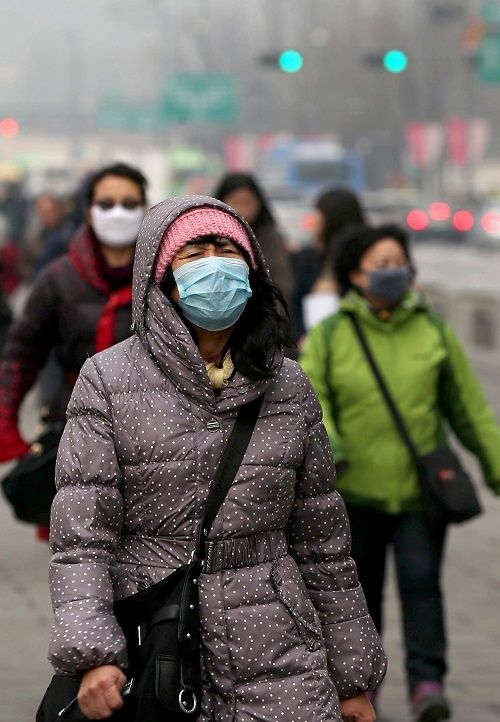mask: (168, 237, 268, 331), (354, 260, 429, 313), (91, 201, 141, 237)
